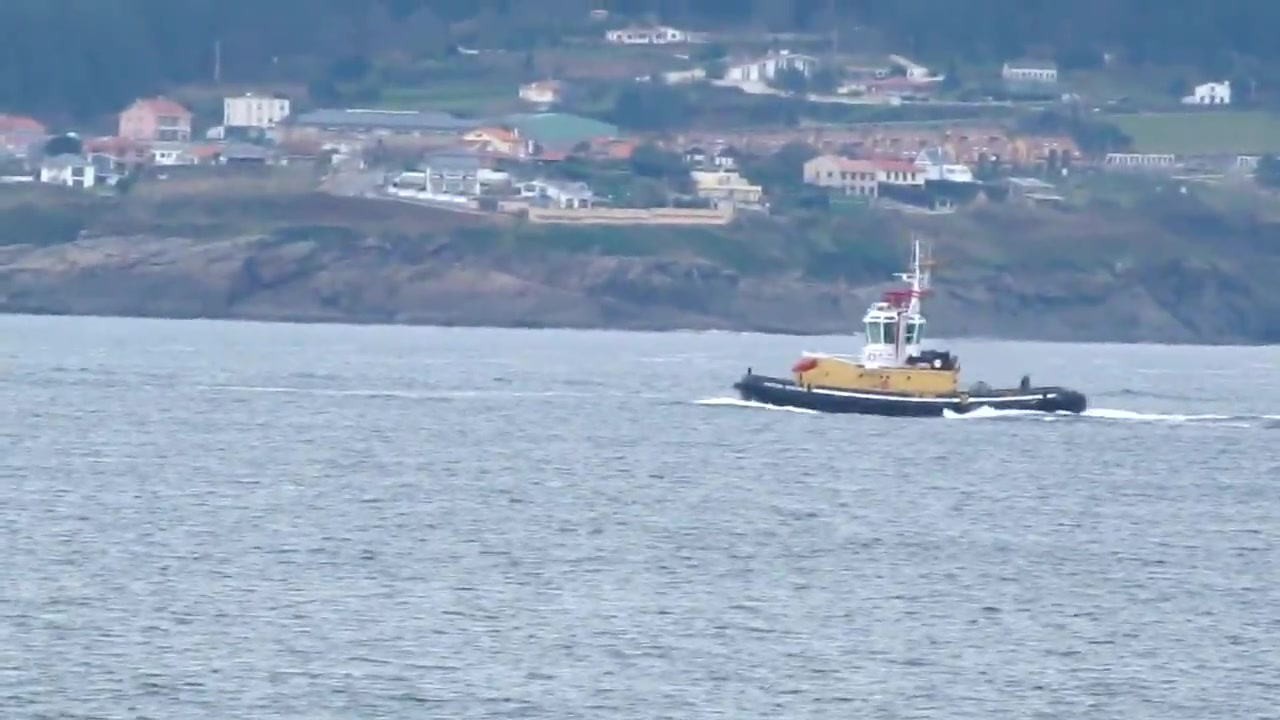boat: (738, 239, 1087, 424)
